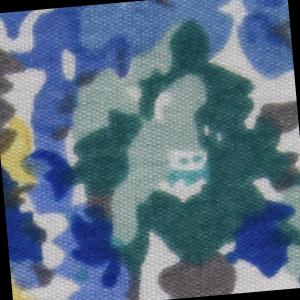Oil Stain: (1, 112, 41, 215), (10, 264, 50, 300)
